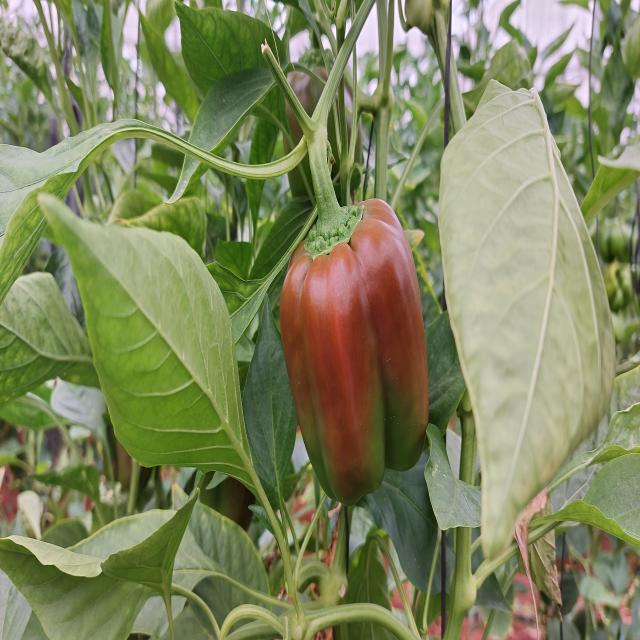BrownishRed--Can-be-Harvested: (281, 221, 439, 494)
